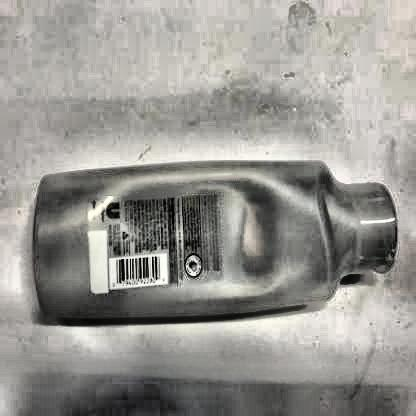Plastic wastes: (24, 155, 401, 330)
